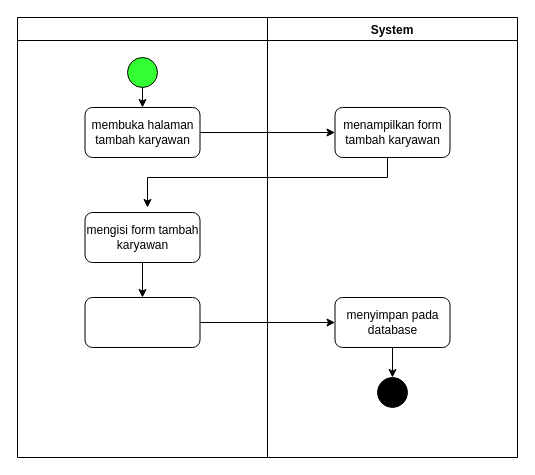
This 535x475 diagram has some shape labels left out. The box of each missing label's shape, as (x1, y1, x2, y2) in pixels:
menekan button simpan: (84, 296, 200, 348)
User: (16, 16, 268, 458)
